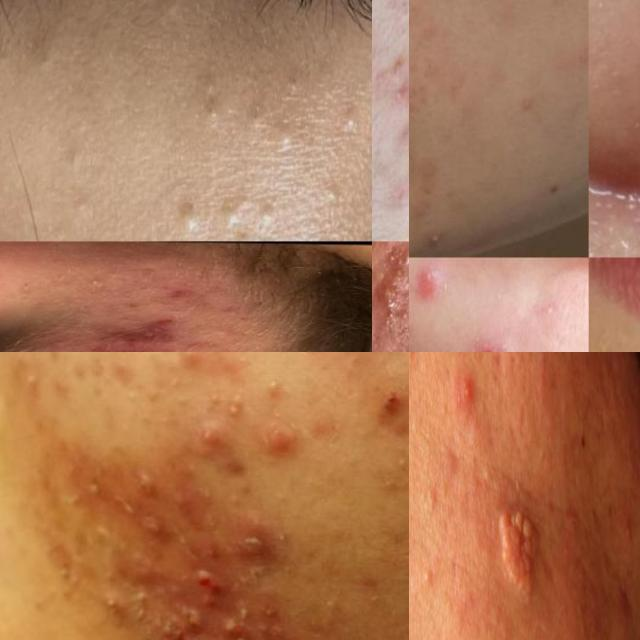comedone: (215, 185, 254, 241), (310, 172, 351, 220), (197, 70, 226, 132), (23, 362, 63, 402), (218, 380, 254, 422), (387, 44, 409, 111), (336, 100, 372, 138), (172, 188, 206, 228), (269, 114, 302, 152), (272, 58, 311, 90), (36, 31, 65, 72), (618, 498, 640, 552), (61, 130, 84, 179), (64, 190, 97, 223), (420, 464, 440, 512), (90, 508, 114, 547), (419, 550, 438, 599), (389, 545, 409, 581), (258, 191, 276, 227), (224, 228, 262, 241), (83, 274, 110, 288), (116, 300, 151, 310), (571, 625, 590, 640), (131, 281, 150, 294)
crystanlline: (194, 569, 230, 625), (127, 607, 175, 640)
papule: (411, 258, 457, 318), (284, 422, 320, 478), (457, 358, 477, 411), (233, 521, 285, 541)
pustule: (180, 422, 239, 471), (179, 352, 212, 385), (417, 227, 449, 254)
sebo-crystan-conglo: (376, 241, 409, 314)
syringoma: (488, 487, 547, 617)
